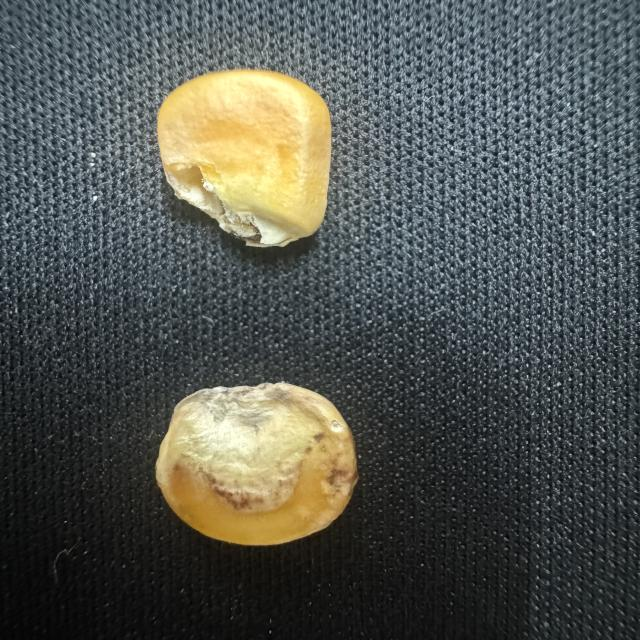Bad-Seed: (146, 378, 364, 550), (150, 66, 340, 256)
